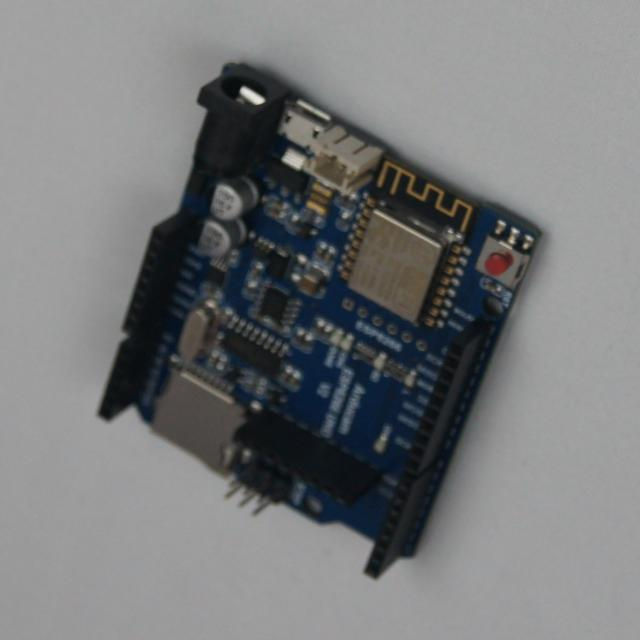Arduino Uno Camera Shield: (99, 63, 541, 578)
